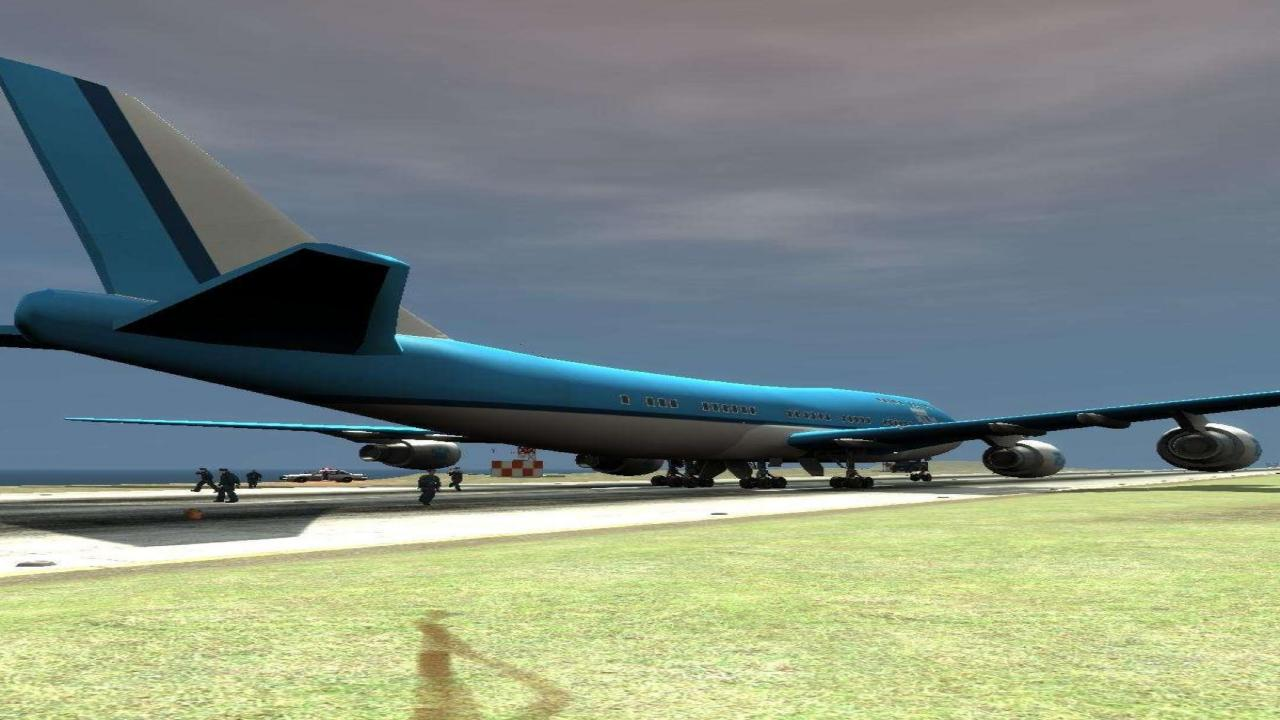Airplane: (1, 53, 1280, 514)
